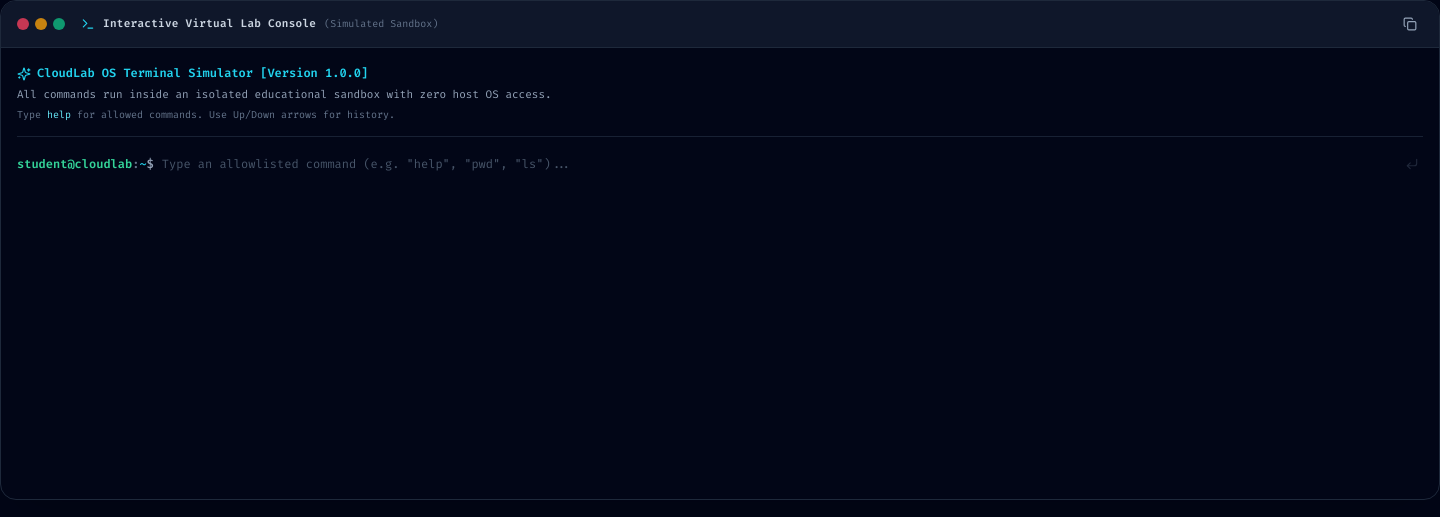
Terminal Component › invokes onTabComplete on Tab key and updates input with completedLine
Step 1. Type "wh" into the field → (777, 164), box [162,156,1393,172]
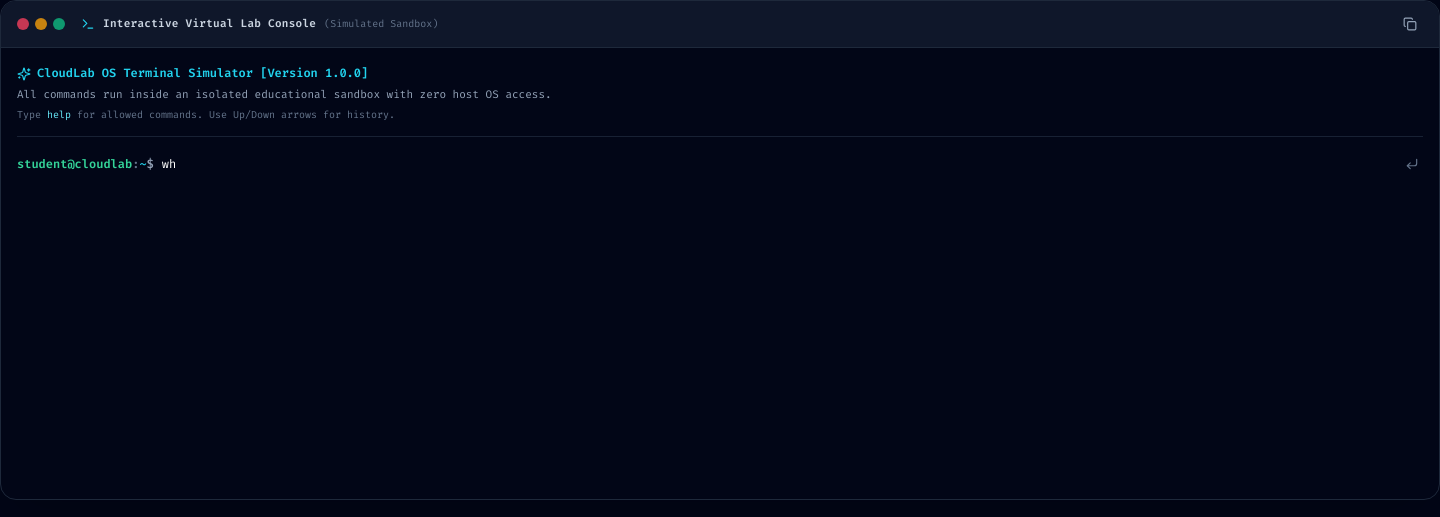
Step 2. Press Tab in the field, box [162,156,1393,172]
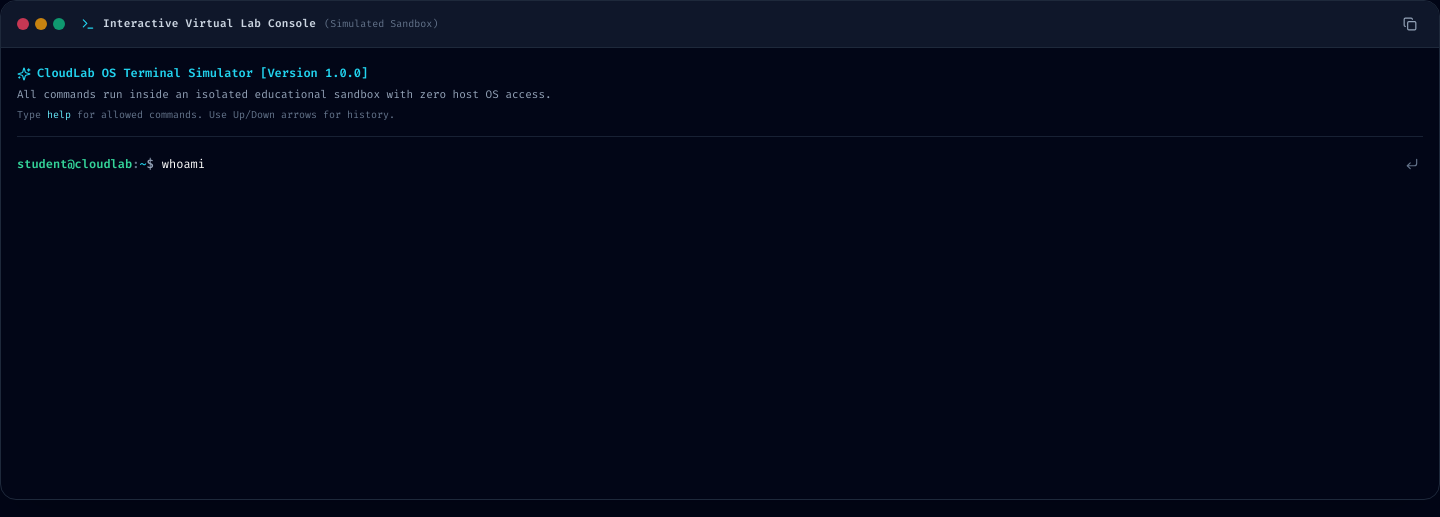
Expected: the field holds "whoami ", [162,156,1393,172]
